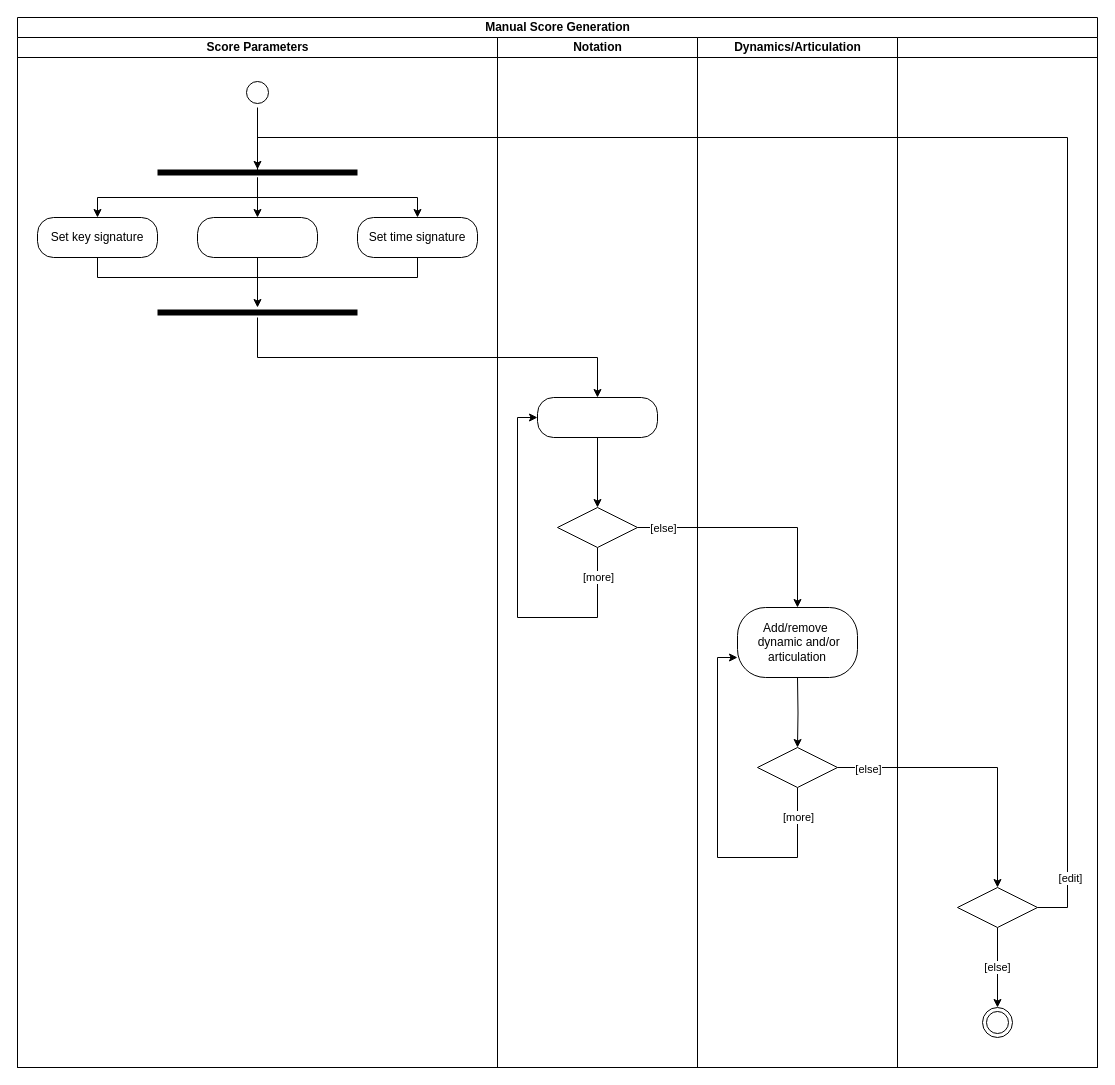
This 1115x1085 diagram has some shape labels left out. The box of each missing label's shape, as (x1, y1, x2, y2) in pixels:
Add/remove note/rest: (536, 396, 658, 438)
Finalization: (896, 36, 1098, 1068)
Set clef: (196, 216, 318, 258)
